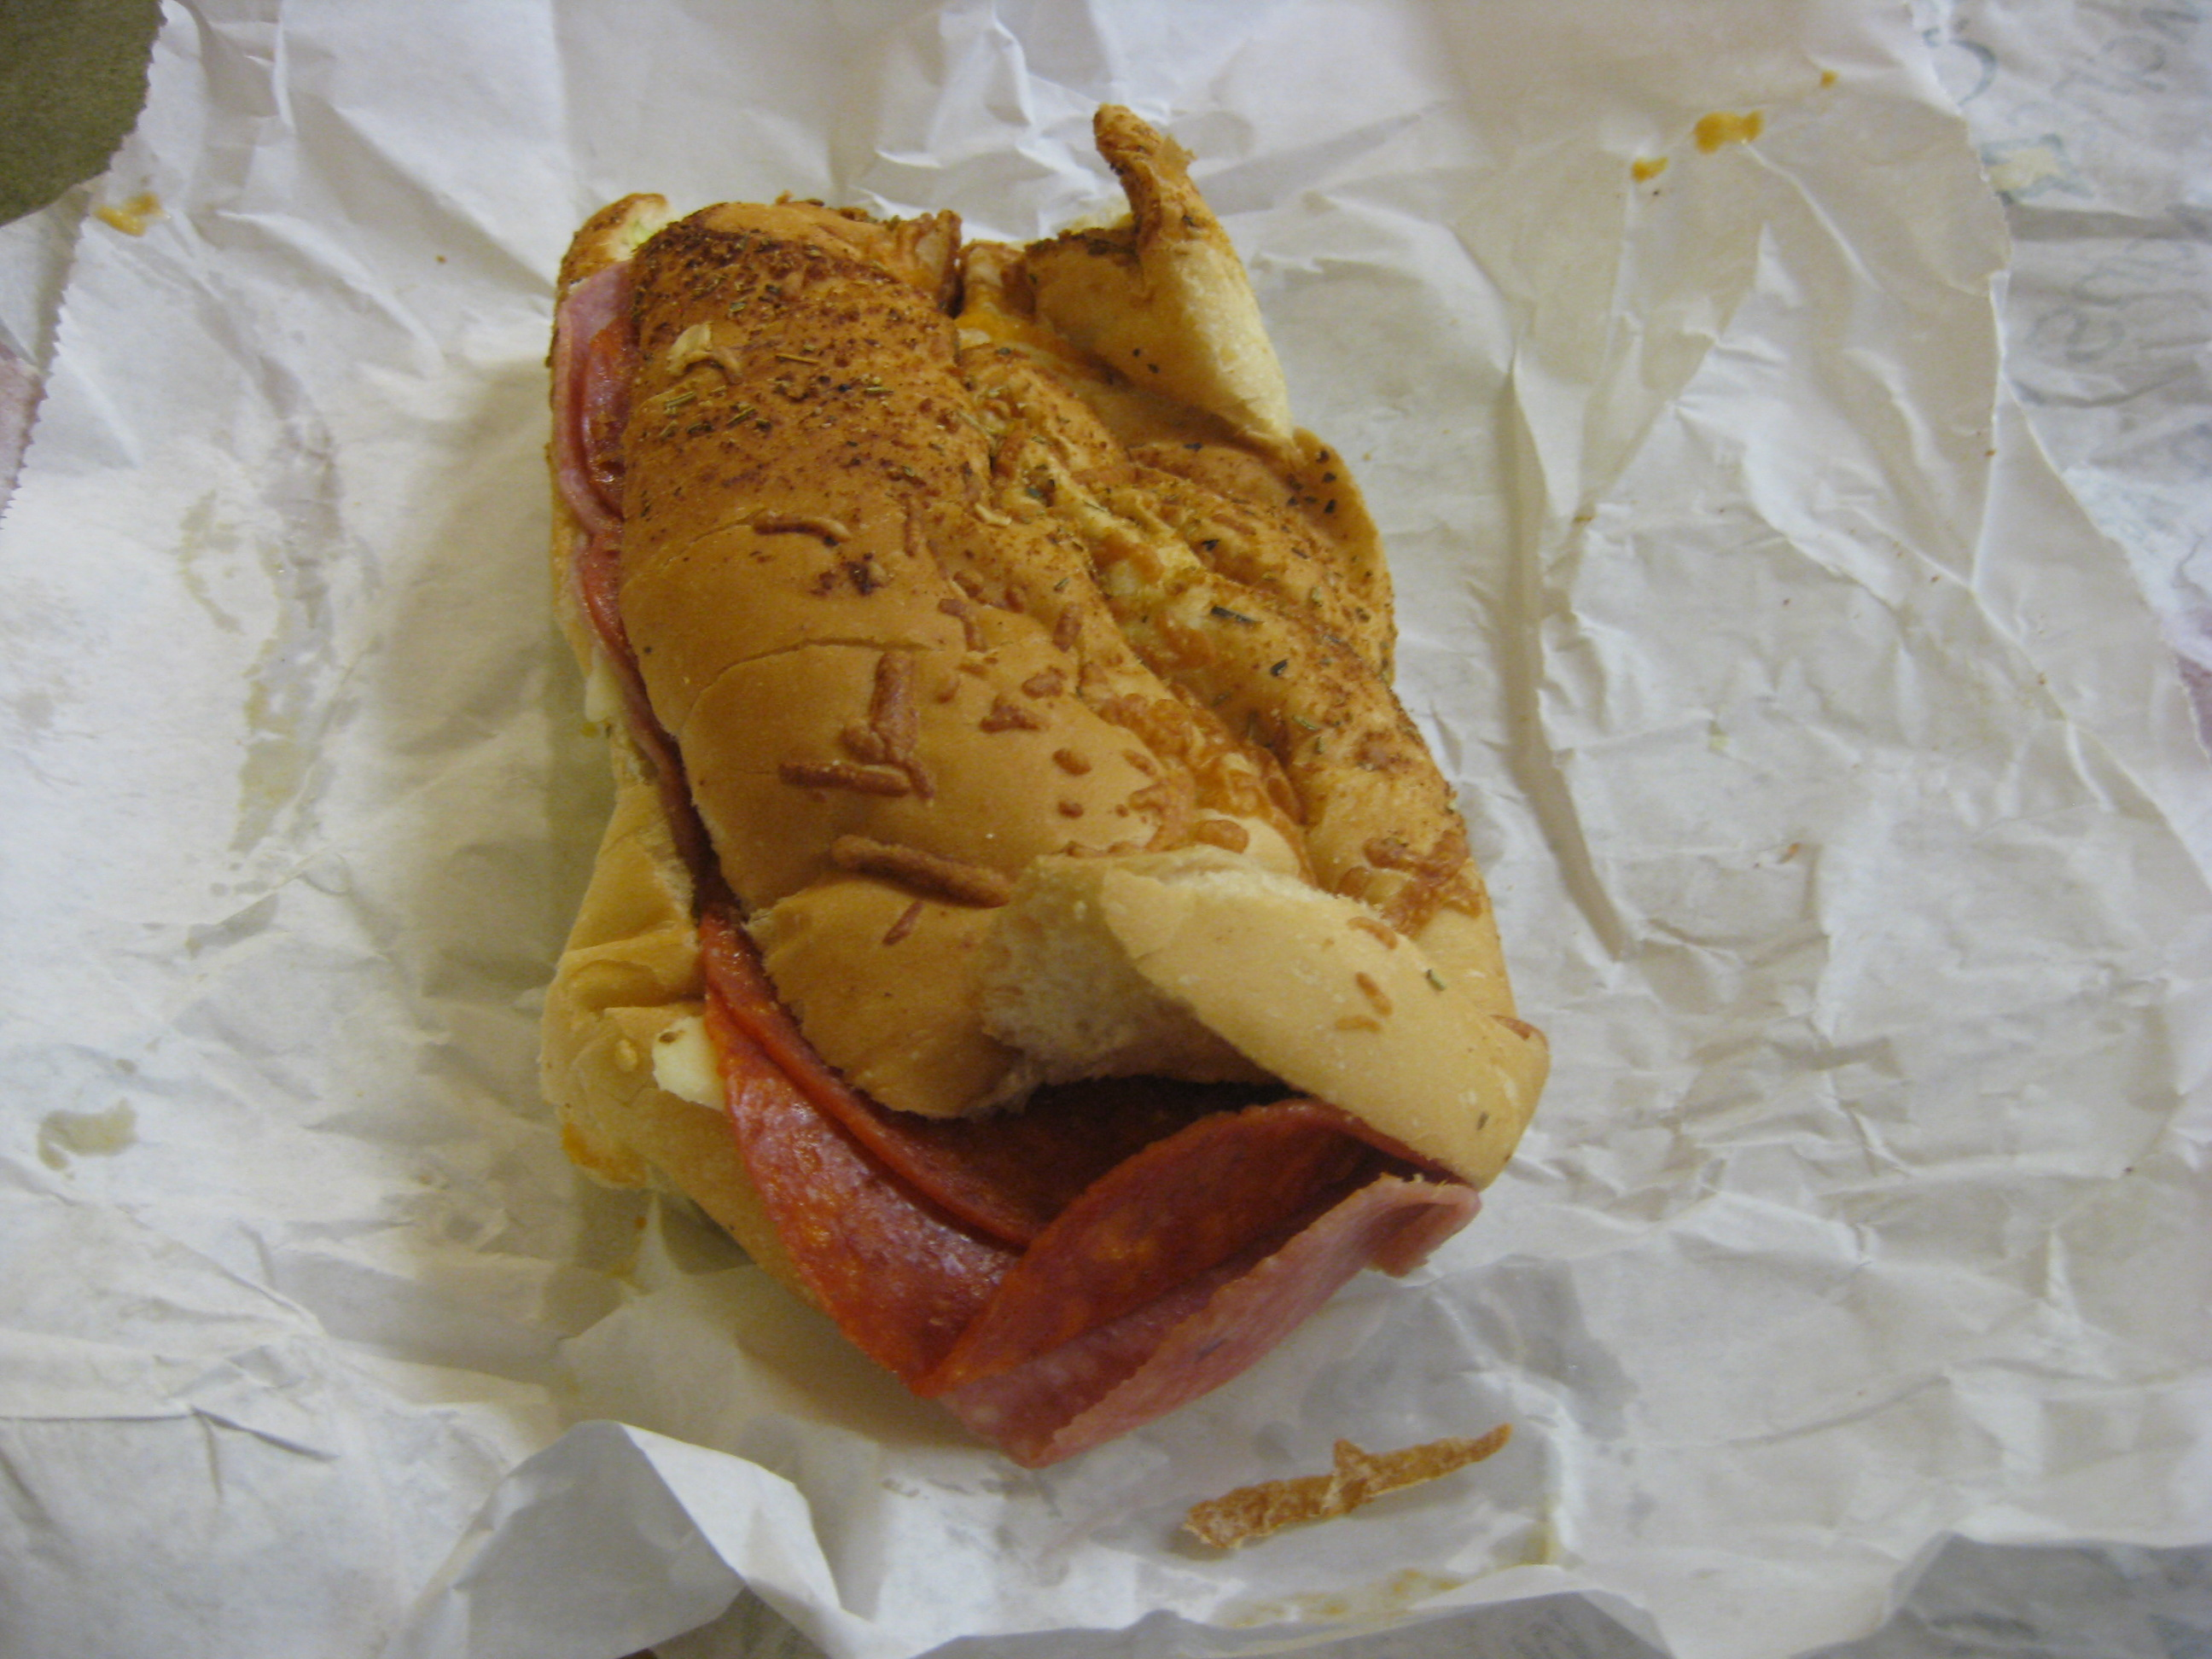sub: (480, 83, 1599, 1468)
